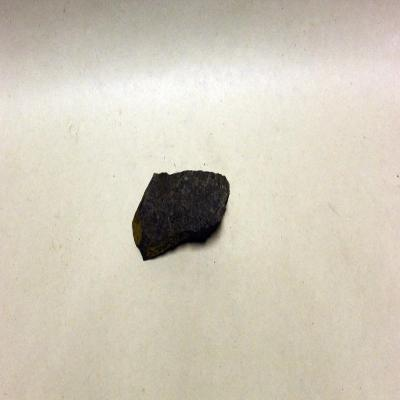mineralogy: (132, 170, 230, 260)
